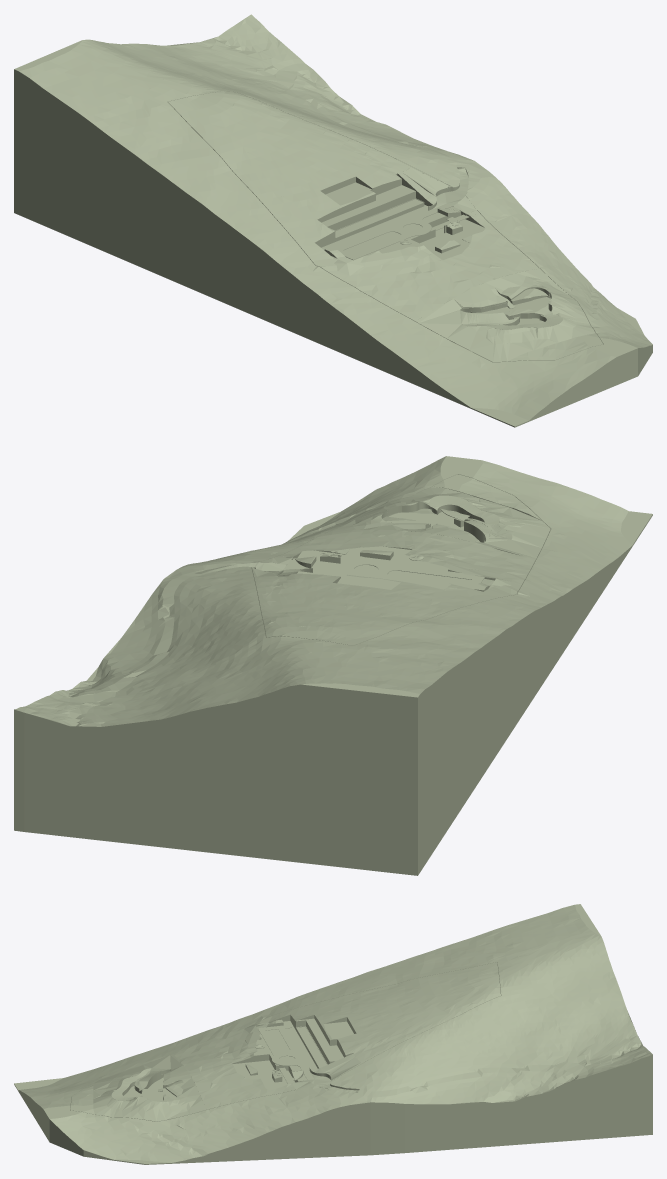
Rendered from terrain.glb.
The picture shows the model from 3 angles, top to bottom: view 1: azimuth 30°, elevation 25°; view 2: azimuth 150°, elevation 25°; view 3: azimuth 270°, elevation 25°; orthographic projection. The views are drawn at different scales.
Visible parts, largest first — view 1: ground; view 2: ground; view 3: ground.
Boxes of the visible parts, box(x1,y1,x2,y2) form: ground: box(14, 14, 652, 427); ground: box(14, 456, 652, 875); ground: box(14, 904, 652, 1164).
Bounding box in the file's own units: 330 × 127 × 623.
